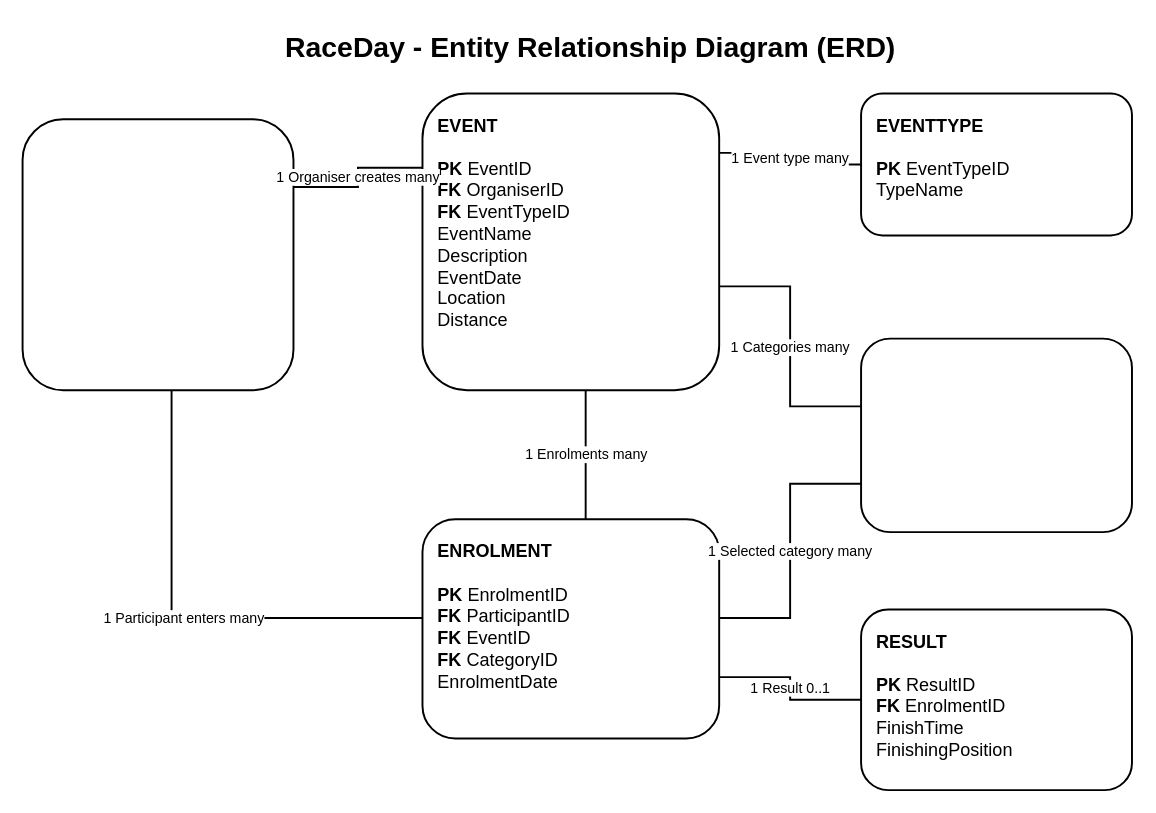
Some shapes in this 1156 by 813 pixel diagram are drawn without their labels. The centre of each missing label's shape, as x and y in pixels:
"CATEGORY PK CategoryID FK EventID CategoryName Description" goes at pixel 996 435.
"USER PK UserID FirstName LastName Email PasswordHash Role PhoneNumber" goes at pixel 157 254.
